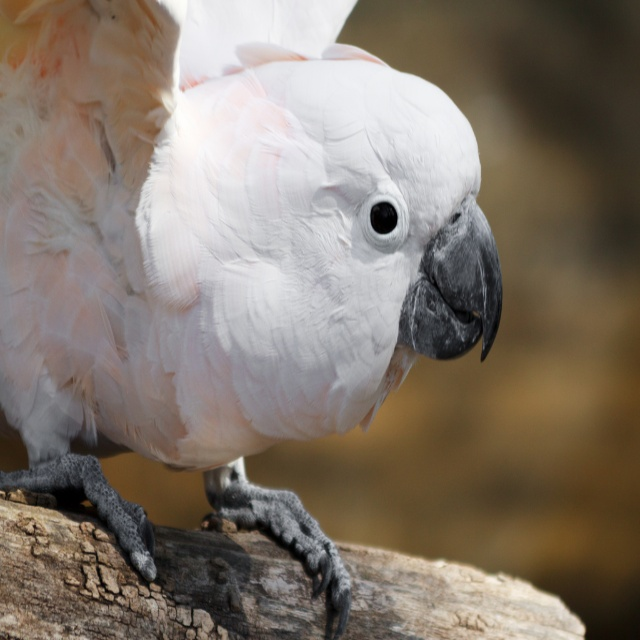Parrot: (0, 0, 503, 640)
